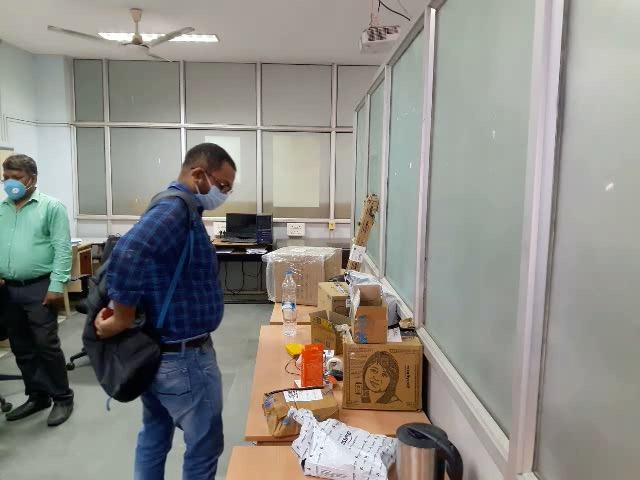shoplifting: (51, 251, 182, 456)
